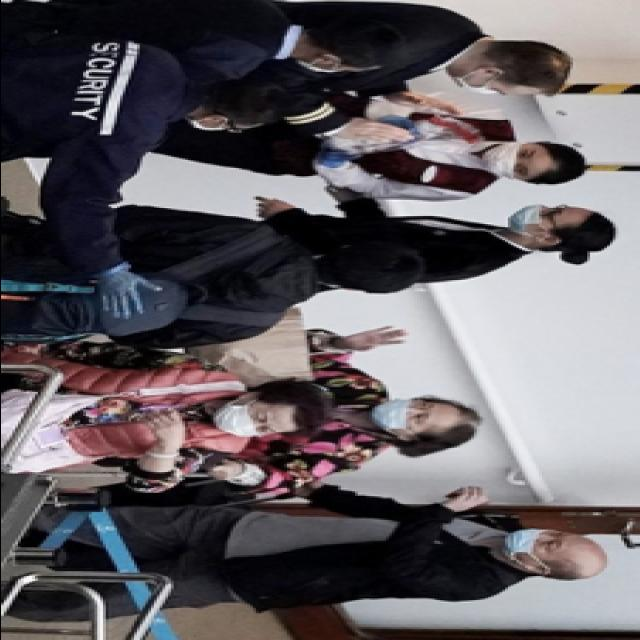with_mask: (210, 398, 286, 436), (371, 395, 442, 429), (482, 141, 544, 179), (504, 202, 572, 234), (507, 526, 575, 558), (448, 72, 518, 96), (300, 56, 365, 74), (190, 119, 250, 132)
